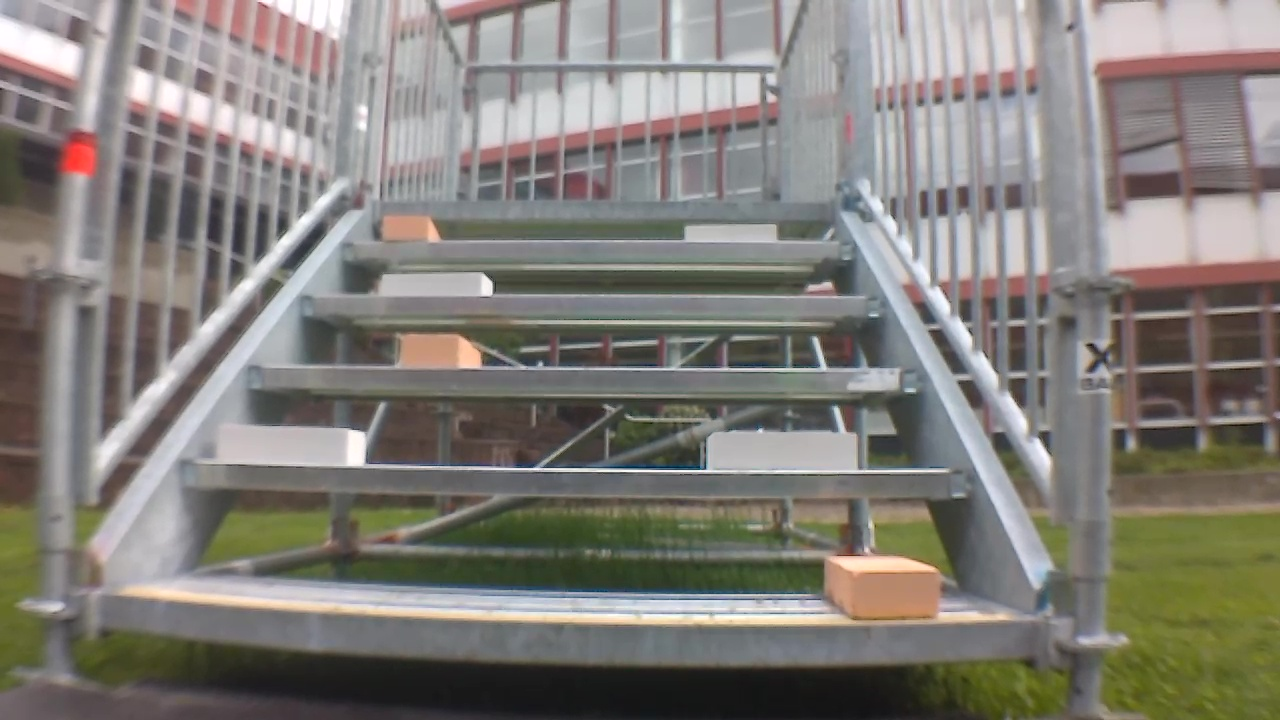brick: (825, 554, 938, 618), (218, 424, 365, 465), (708, 432, 855, 471), (400, 335, 480, 367), (382, 273, 491, 296), (687, 225, 775, 242), (383, 215, 438, 241)
edge: (103, 594, 1041, 665), (181, 461, 971, 497), (247, 366, 923, 392), (299, 294, 886, 316), (343, 241, 857, 261), (377, 198, 832, 218)
stairs: (28, 1, 1126, 712)
steps: (100, 194, 1049, 682)
